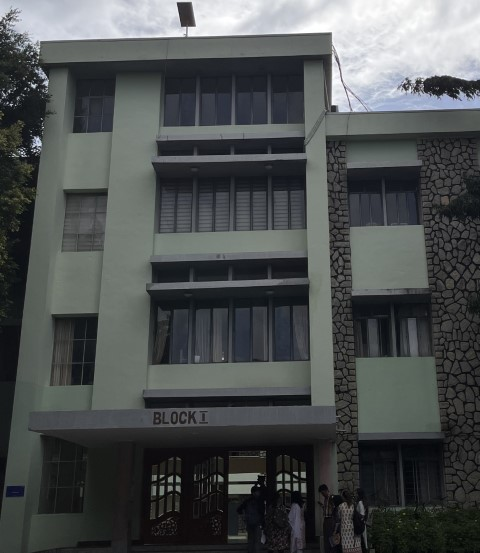Block 1: (19, 10, 480, 553)
